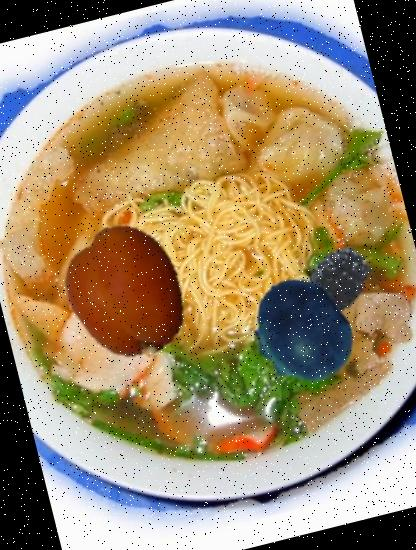Apricot: (48, 213, 208, 373)
Huckleberry: (235, 266, 368, 399)
Mulberry: (280, 226, 382, 328)
